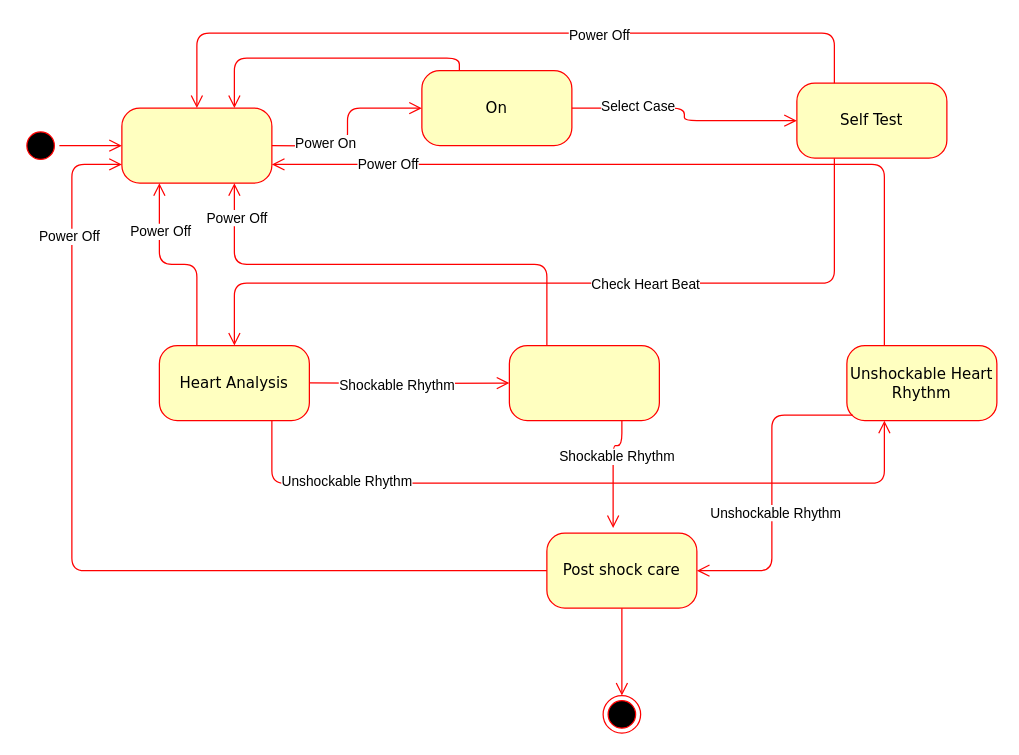
The diagram is 1019 pixels wide and 755 high, and some of its shapes have lost their labels. Here are the shapes that lost their labels. From the top down, the centre of each, then its label:
[196,145]: Off
[583,382]: Ready to Shock
